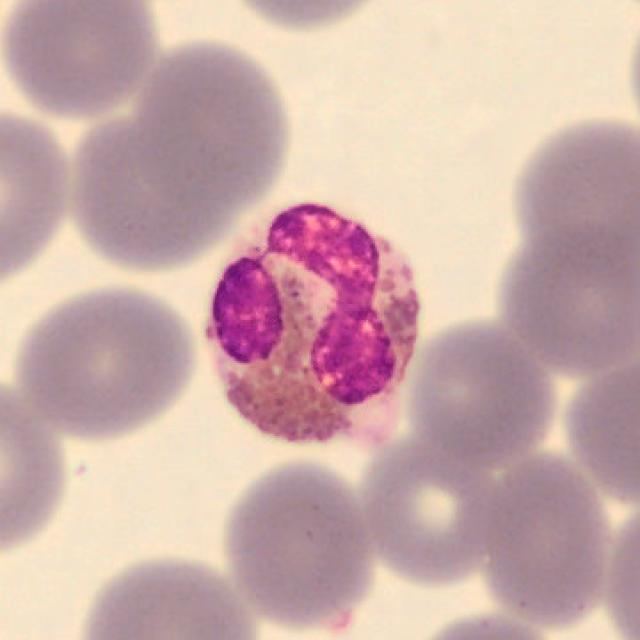Eosinofilo: (204, 206, 421, 451)
